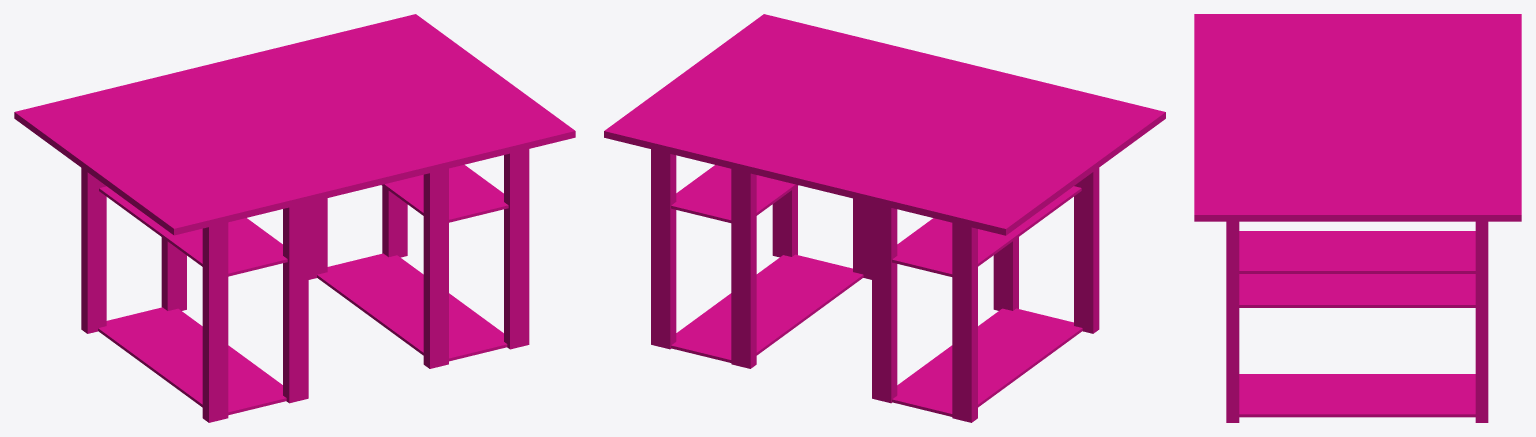
Rendered from Masa.fbx.
The picture shows the model from 3 angles, left to right: view 1: azimuth 30°, elevation 25°; view 2: azimuth 150°, elevation 25°; view 3: azimuth 270°, elevation 25°; orthographic projection. The views are drawn at different scales.
Visible parts, largest first — view 1: Cube.014; view 2: Cube.014; view 3: Cube.014.
Boxes of the visible parts, x1,y1,x2,y2 form: Cube.014: (14,14,575,422); Cube.014: (604,14,1165,422); Cube.014: (1194,14,1521,422).
Size of the model in its own units: 1000 by 519 by 689.
